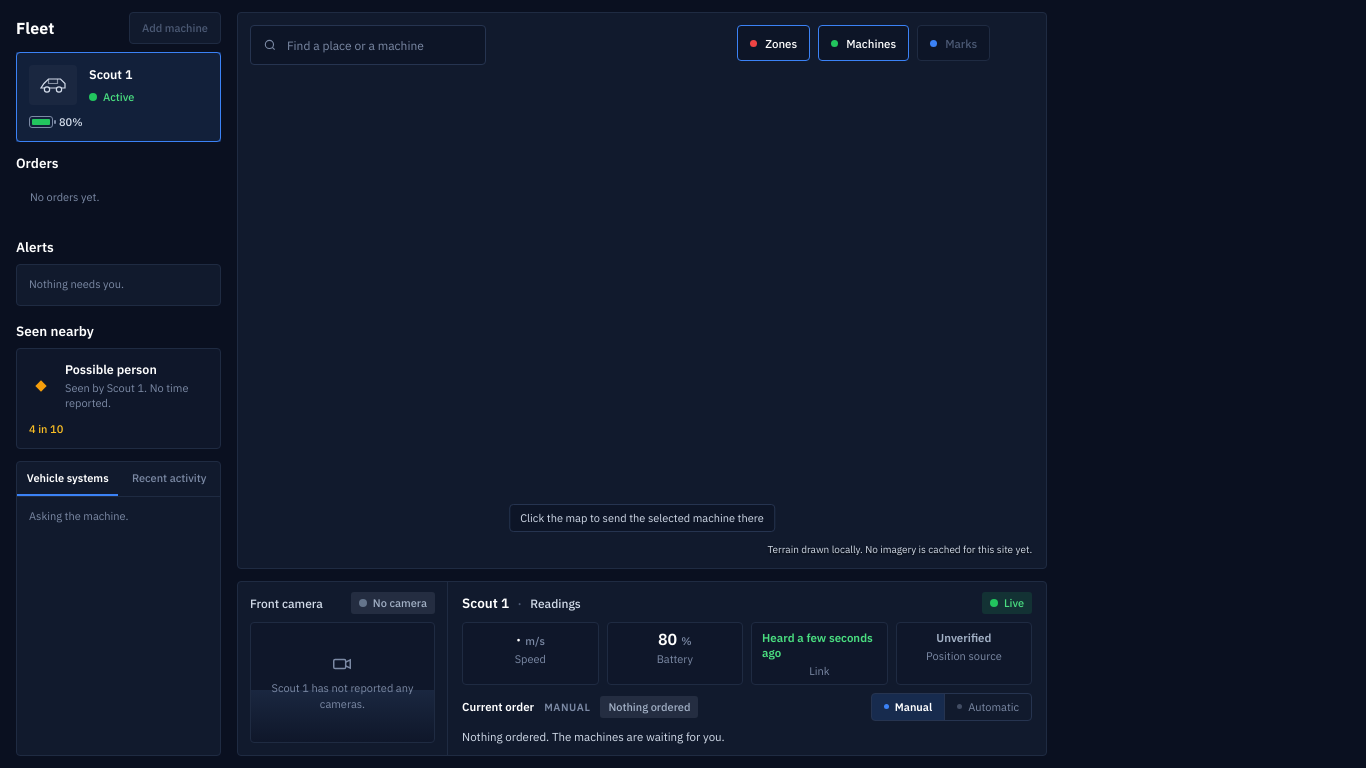
it: a contact with no observation time › says no time was reported, in the row and in the detail
This screenshot has width=1366, height=768.
Expected: the button "Possible person" does not show "seconds ago"
Click the button "Possible person Seen by Scout 1. No time reported. 4 in 10" at (118, 398), box [16, 348, 221, 449]
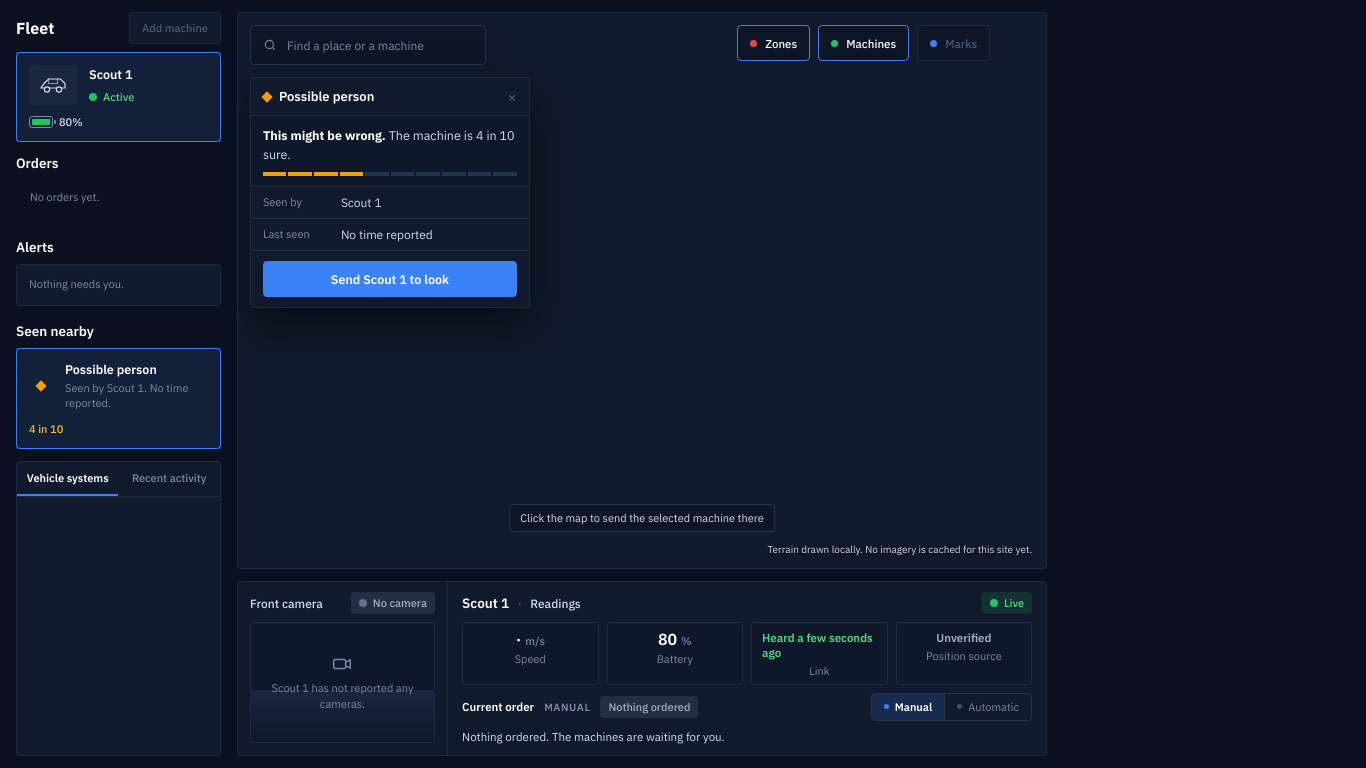
Expected: the element with class "detail" does not show "seconds ago"
Result: the element with class "detail" shows "No time reported" at [341, 227, 433, 242]
